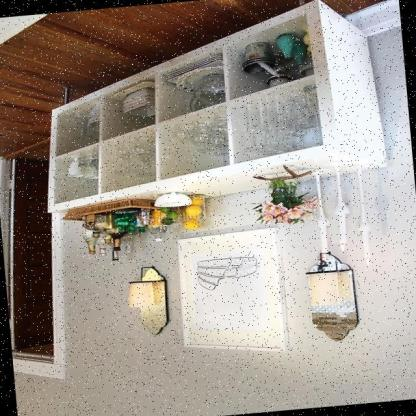Shelf: (27, 0, 392, 217)
